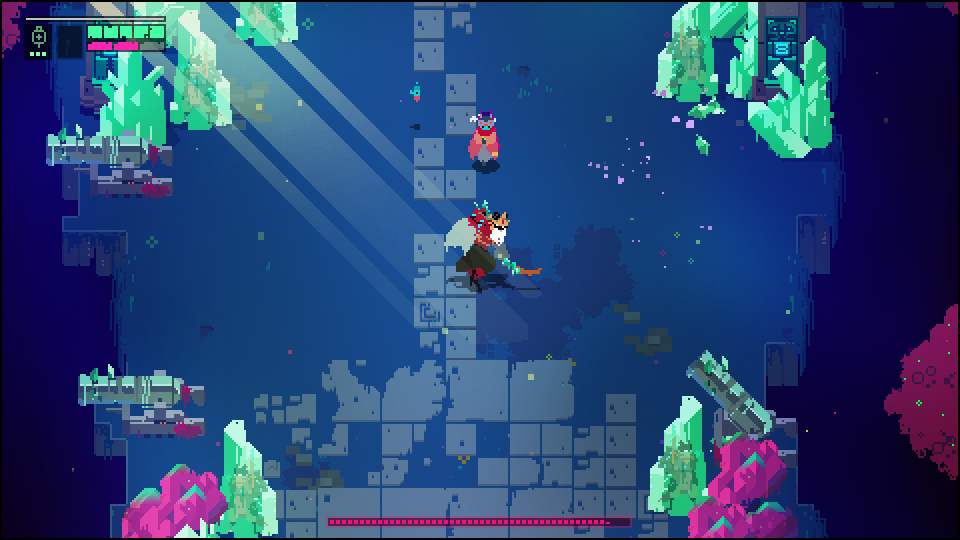hanged_man: (440, 200, 534, 289)
player: (466, 108, 502, 173)
